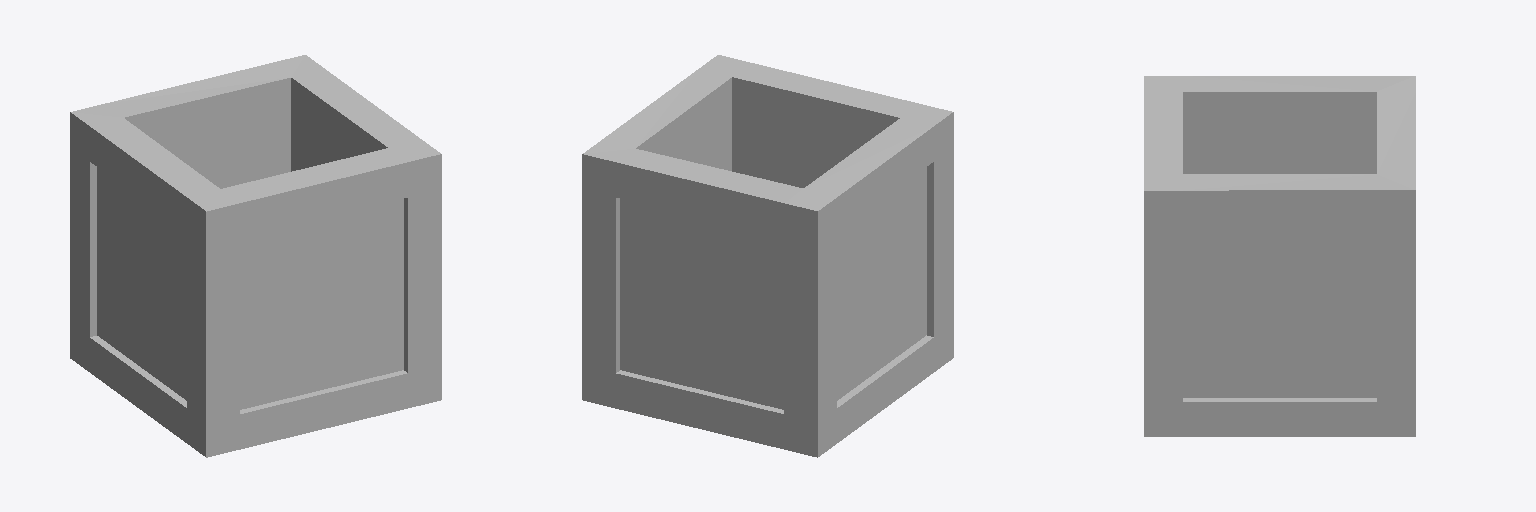
File: caja_base.obj
3 views of the same model, side by side, from view 1: azimuth 30°, elevation 25°; view 2: azimuth 150°, elevation 25°; view 3: azimuth 270°, elevation 25° (orthographic).
Parts seen in each view (by area): view 1: caja caja_sorpresa1; view 2: caja caja_sorpresa1; view 3: caja caja_sorpresa1.
Part boxes in pixels (left/top/right/bottom): caja caja_sorpresa1: left=70, top=55, right=441, bottom=457; caja caja_sorpresa1: left=582, top=55, right=953, bottom=457; caja caja_sorpresa1: left=1144, top=76, right=1415, bottom=436.
Size of the model in its own units: 30.03 by 30.05 by 30.03.